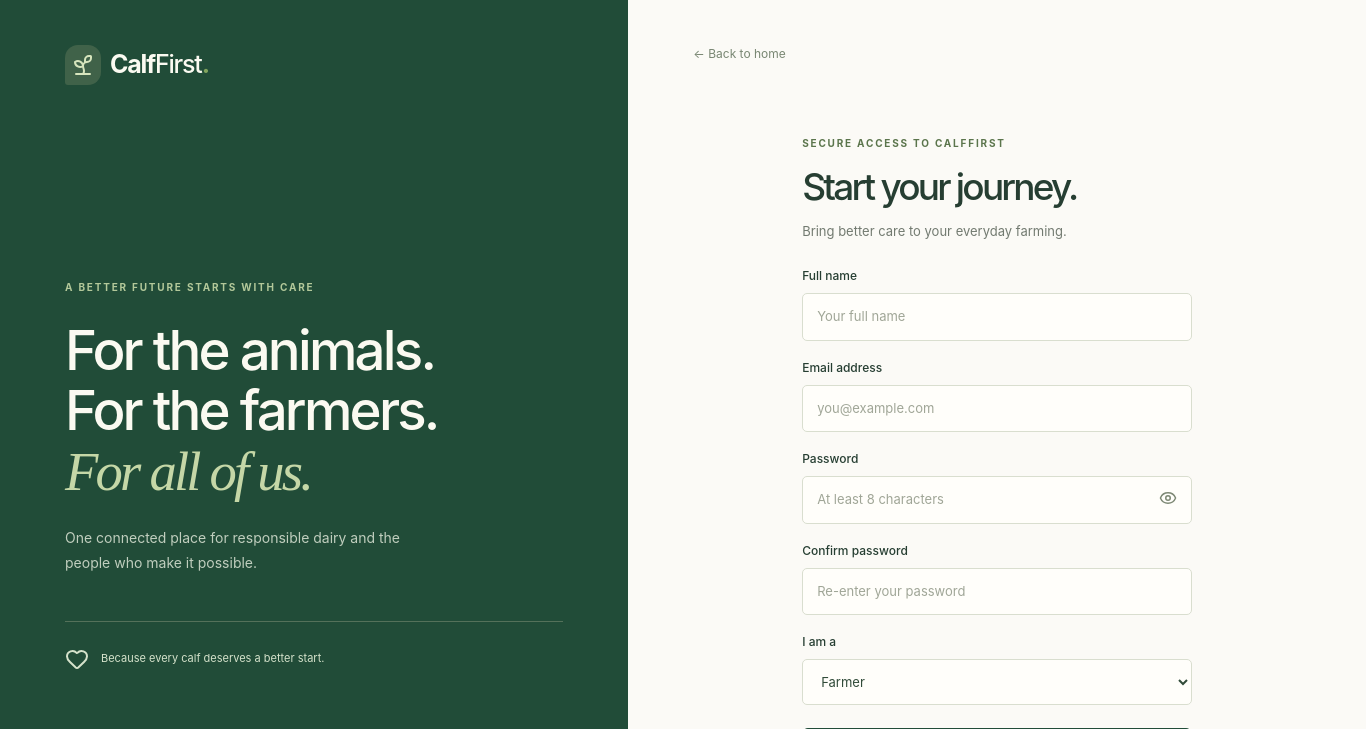
Test: authentication forms › validates all registration fields without sending a request
Type "A" into the field labelled "Full name".
click(997, 317); type("A")  # box left=802, top=293, right=1192, bottom=341
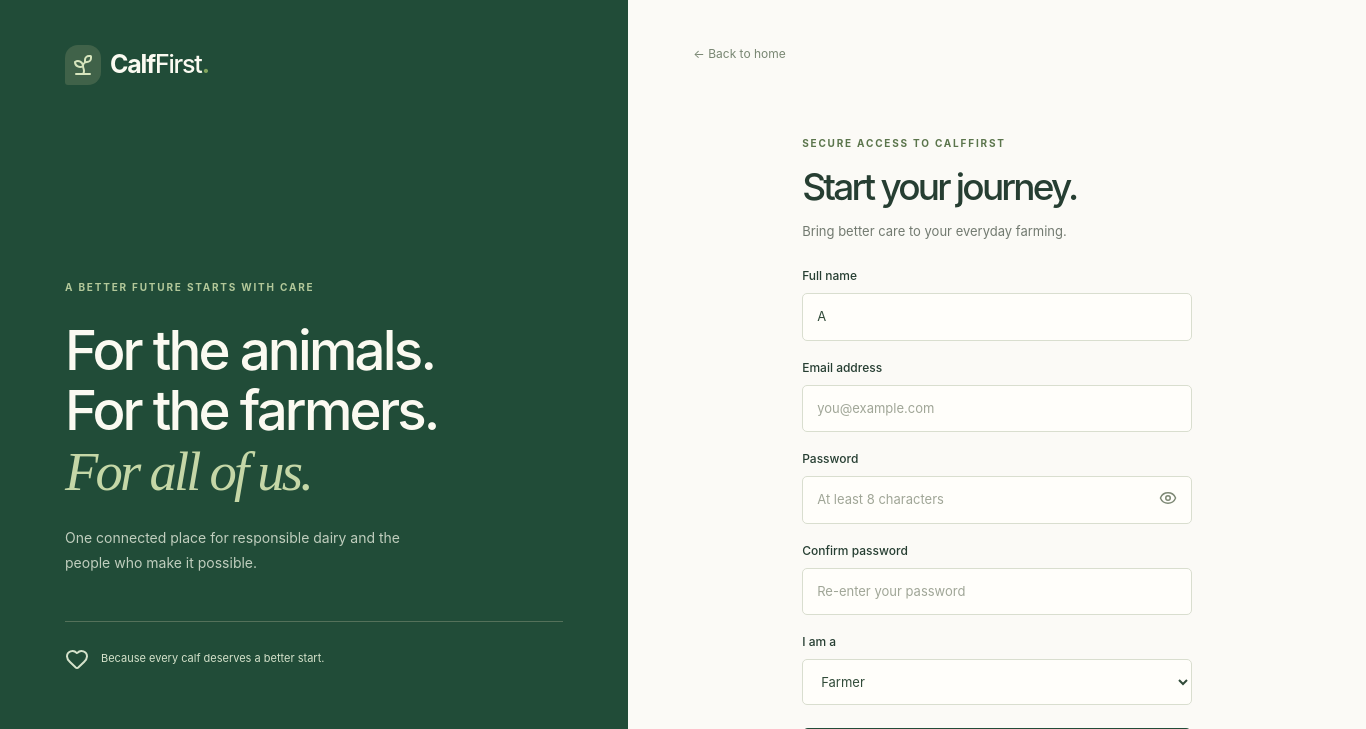
Type "invalid" into the field labelled "Email address".
click(997, 408); type("invalid")  # box left=802, top=385, right=1192, bottom=432
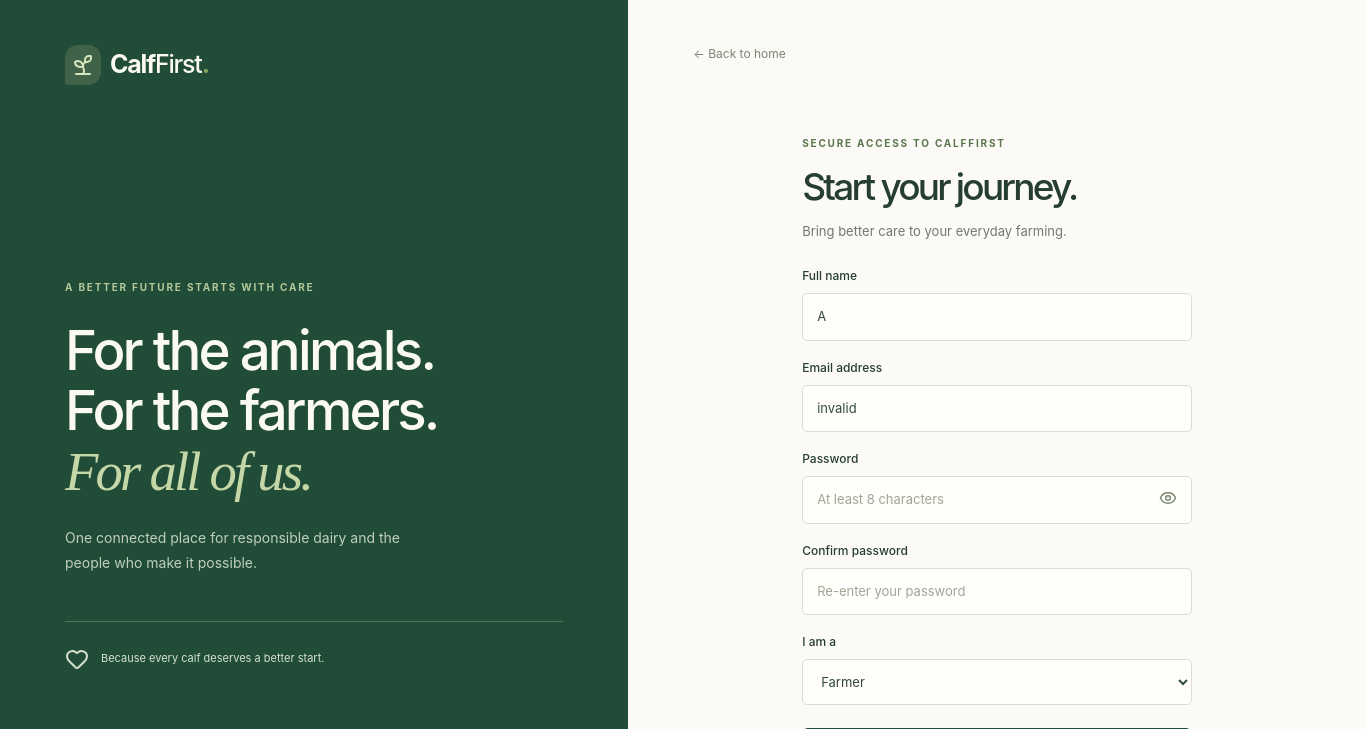
Type "short" into the password field labelled "Password".
click(997, 500); type("short")  # box left=802, top=476, right=1192, bottom=524
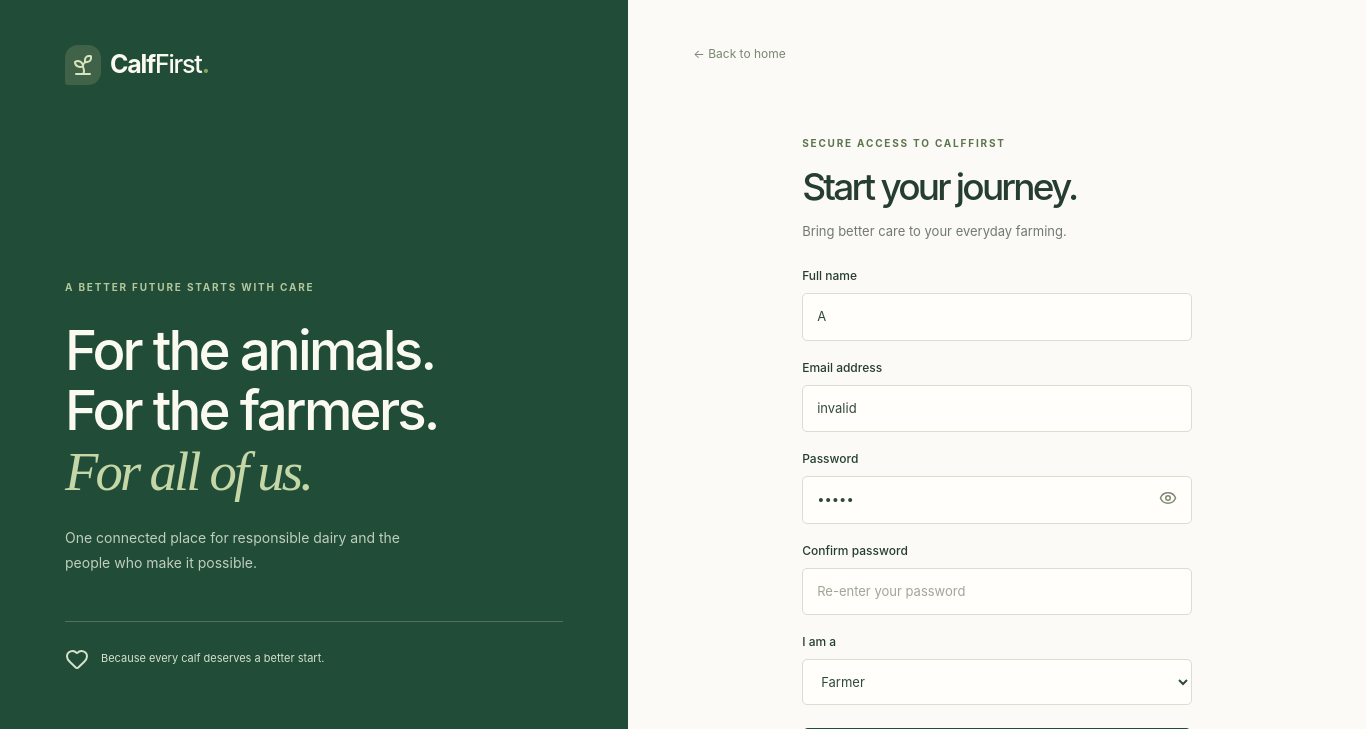
Type "different" into the password field labelled "Confirm password".
click(997, 591); type("different")  # box left=802, top=568, right=1192, bottom=615
(page scrolled)
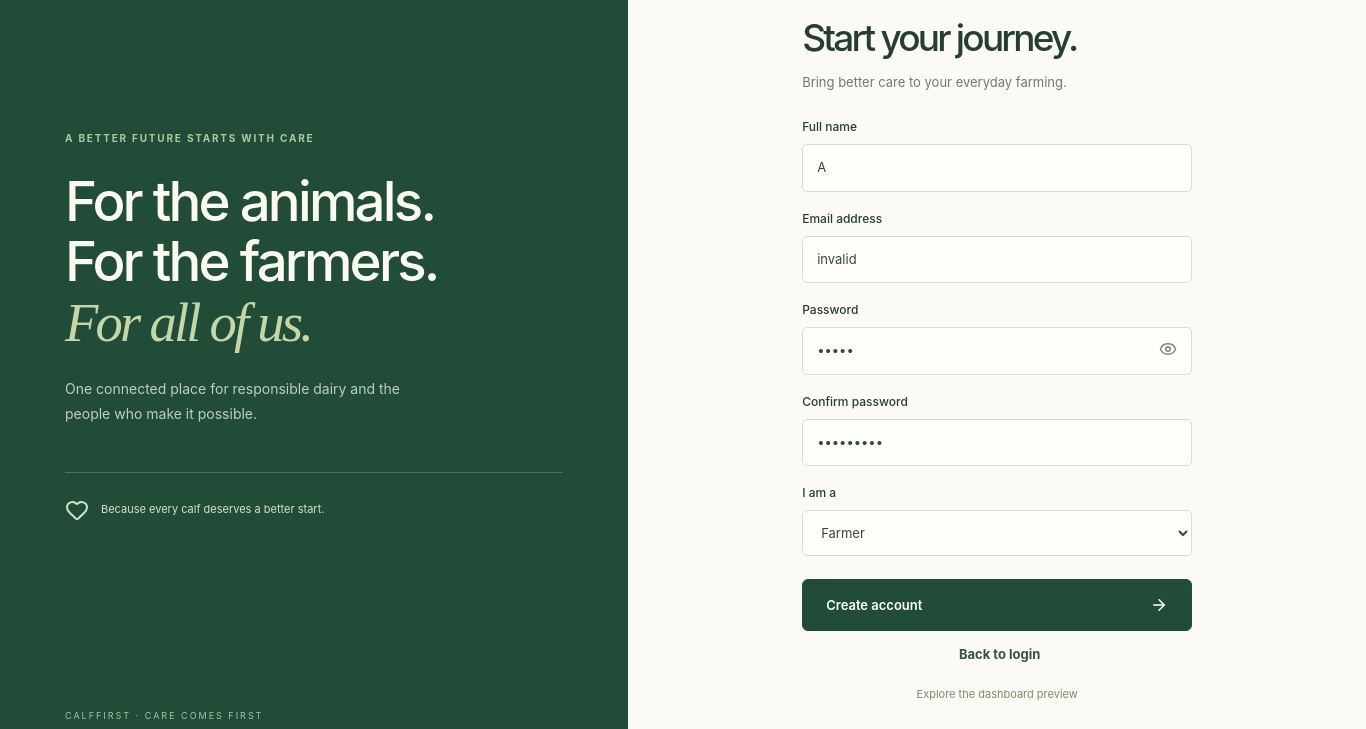
Click the button "Create account".
click(874, 605)  # box left=802, top=579, right=1192, bottom=631
(page scrolled)
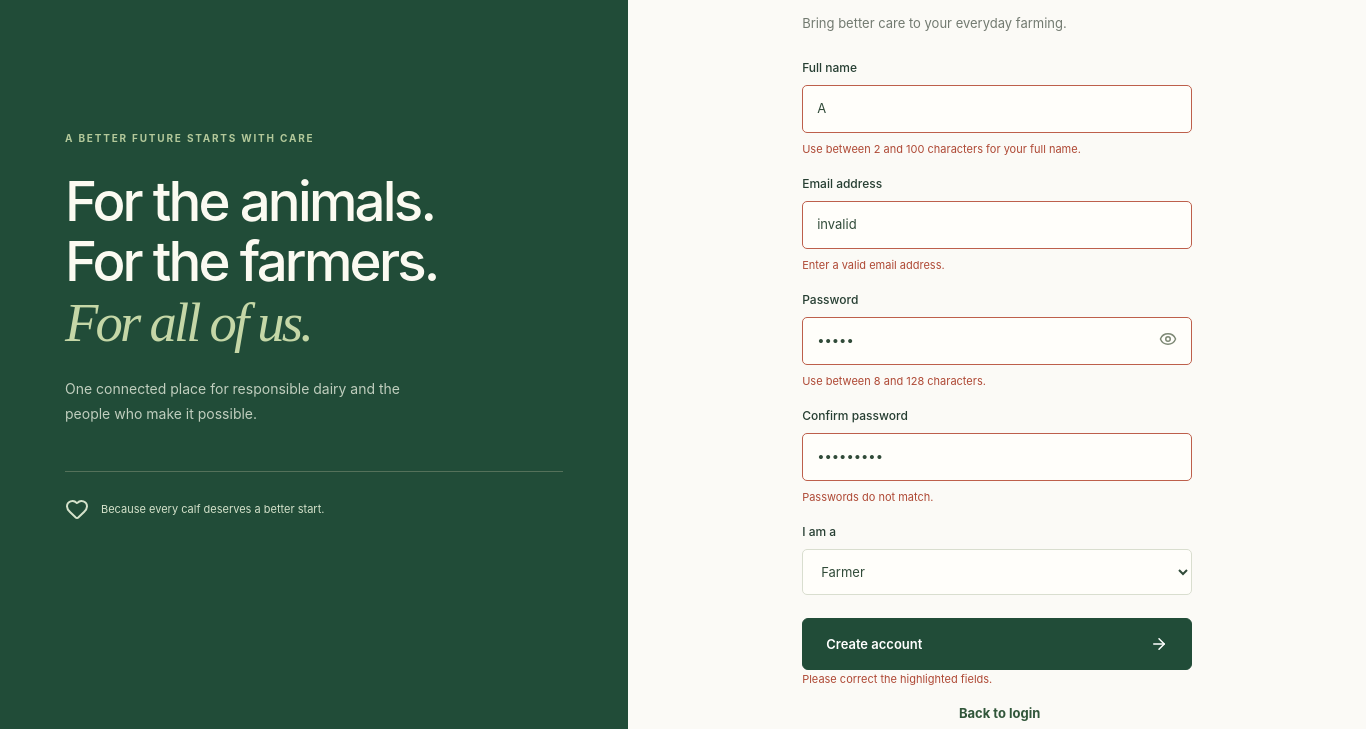
Check: the text "Use between 2 and 100 characters for your full name." is shown, box left=802, top=142, right=1081, bottom=156
Check: the text "Enter a valid email address." is shown, box left=802, top=258, right=945, bottom=272
Check: the text "Passwords do not match." is shown, box left=802, top=490, right=934, bottom=504
